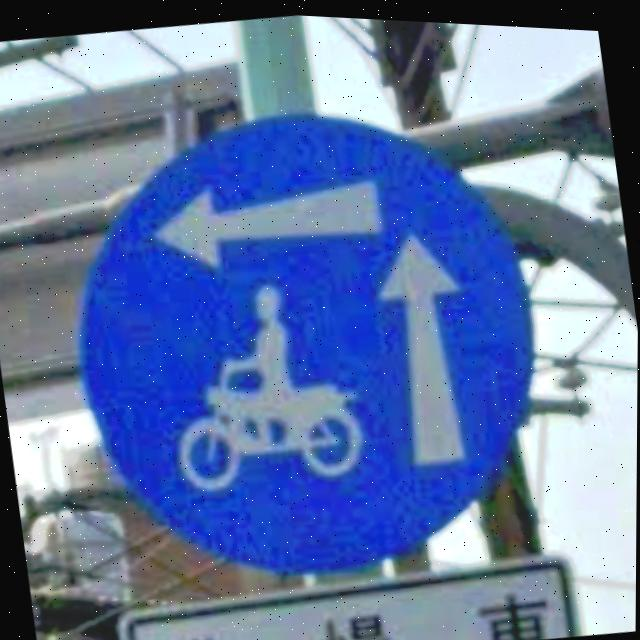twostageturn: (78, 113, 533, 573)
